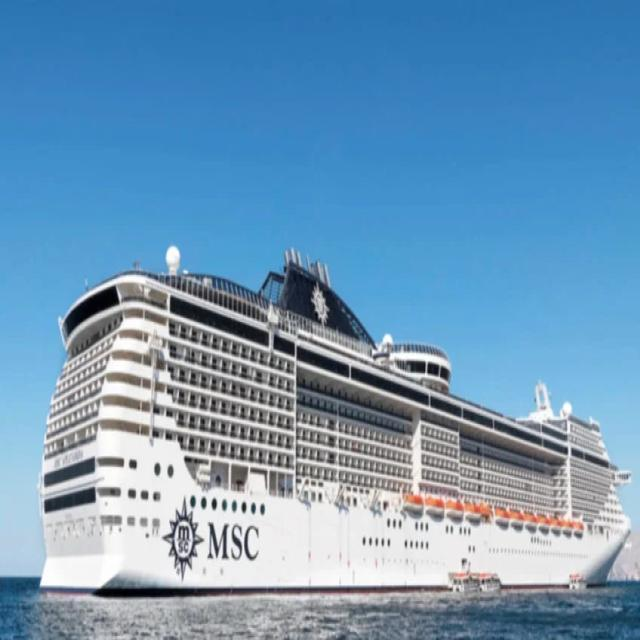Cruise: (40, 246, 630, 592)
